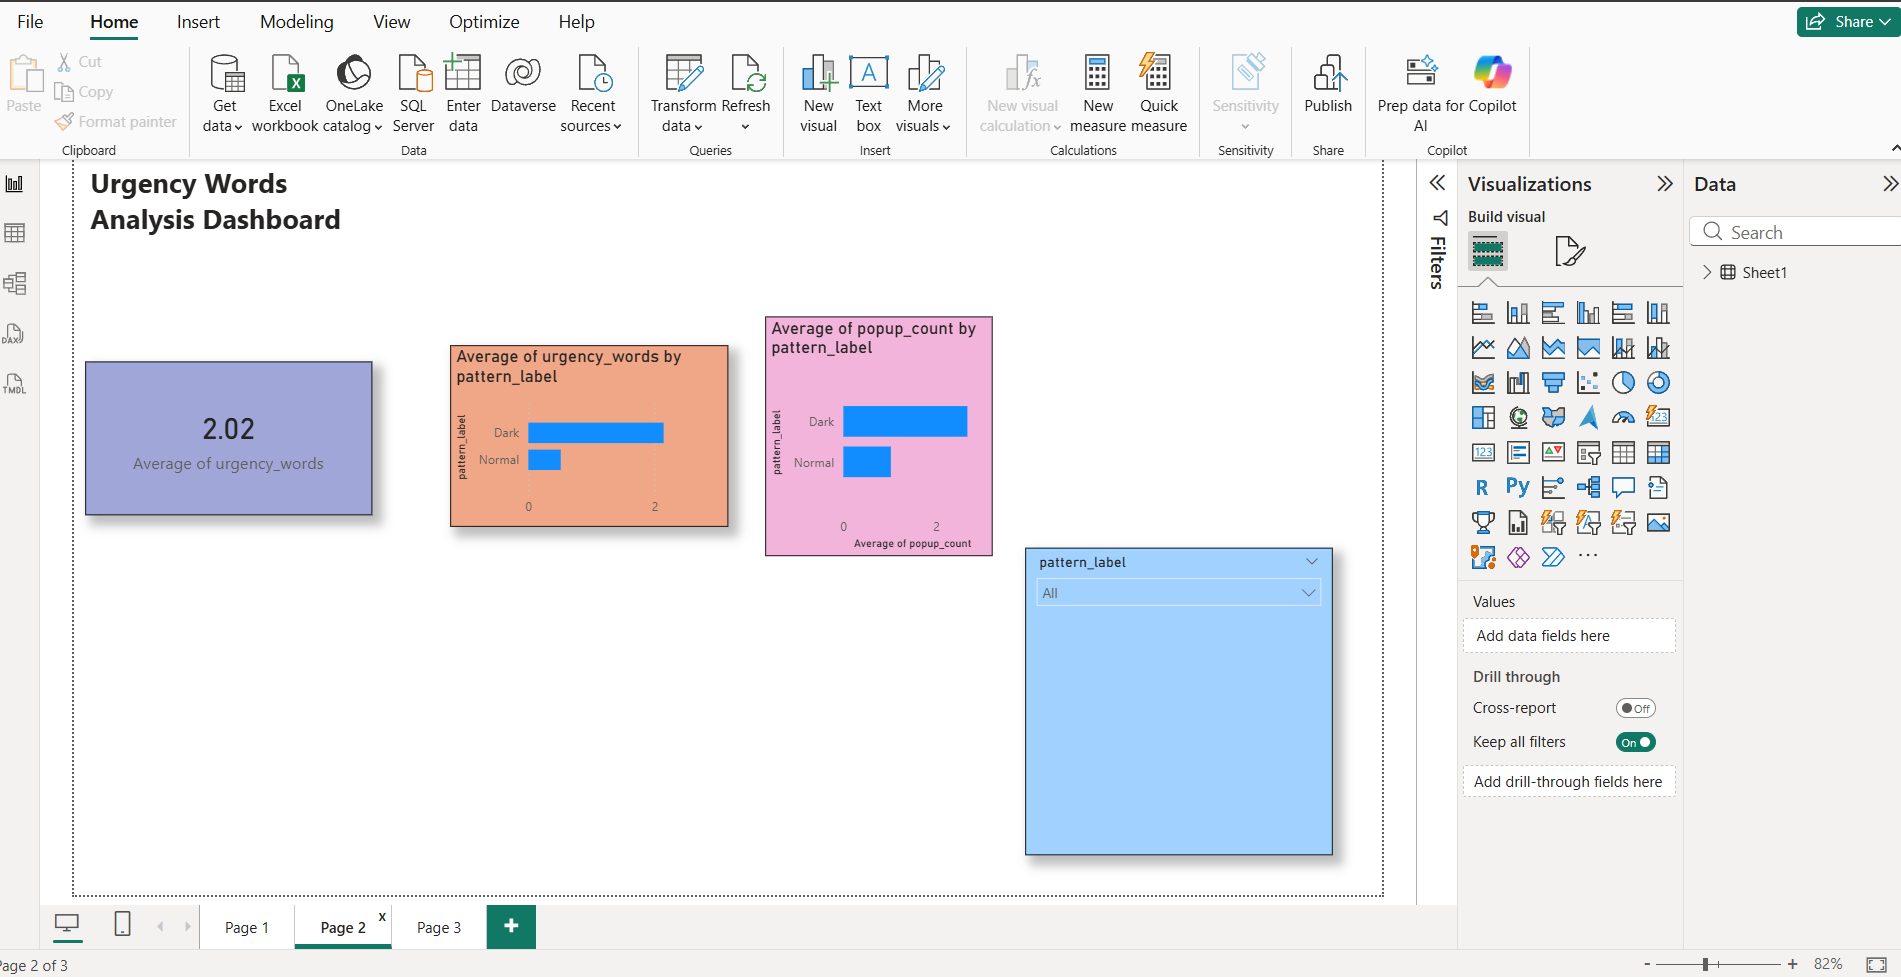

What the dashboard file says about the page in this screenshot:
{"tool":"powerbi","page":{"name":"Page 2","canvas":[1280,720],"ordinal":1},"visuals":[{"type":"textbox","box":[10.7,0,281.3,114.7],"z":0},{"type":"card","fields":{"Values":["Avg(Sheet1.urgency_words)"]},"box":[11,197.5,281,150],"z":1000},{"type":"barChart","fields":{"Category":["Sheet1.pattern_label"],"Y":["Avg(Sheet1.urgency_words)"]},"box":[368,182.7,272,177.3],"z":2000},{"type":"barChart","fields":{"Category":["Sheet1.pattern_label"],"Y":["Avg(Sheet1.popup_count)"]},"box":[676,154.7,222.7,234.7],"z":3000},{"type":"slicer","fields":{"Values":["Sheet1.pattern_label"]},"box":[930.4,380.1,300.5,300.5],"z":4000},{"type":"textbox","box":[11,570,249,150],"z":5000}]}

Visuals, with their boxes on the page's 1280x720 design canvas (x1, y1, x2, y2). These are canvas units, not pixel positions in the 1901x977 screenshot, which may show the page scaled, cropped or inside an application window:
textbox: (left=11, top=0, right=292, bottom=115)
card - Avg(Sheet1.urgency_words): (left=11, top=198, right=292, bottom=348)
barChart - Sheet1.pattern_label x Avg(Sheet1.urgency_words): (left=368, top=183, right=640, bottom=360)
barChart - Sheet1.pattern_label x Avg(Sheet1.popup_count): (left=676, top=155, right=899, bottom=389)
slicer - Sheet1.pattern_label: (left=930, top=380, right=1231, bottom=681)
textbox: (left=11, top=570, right=260, bottom=720)
